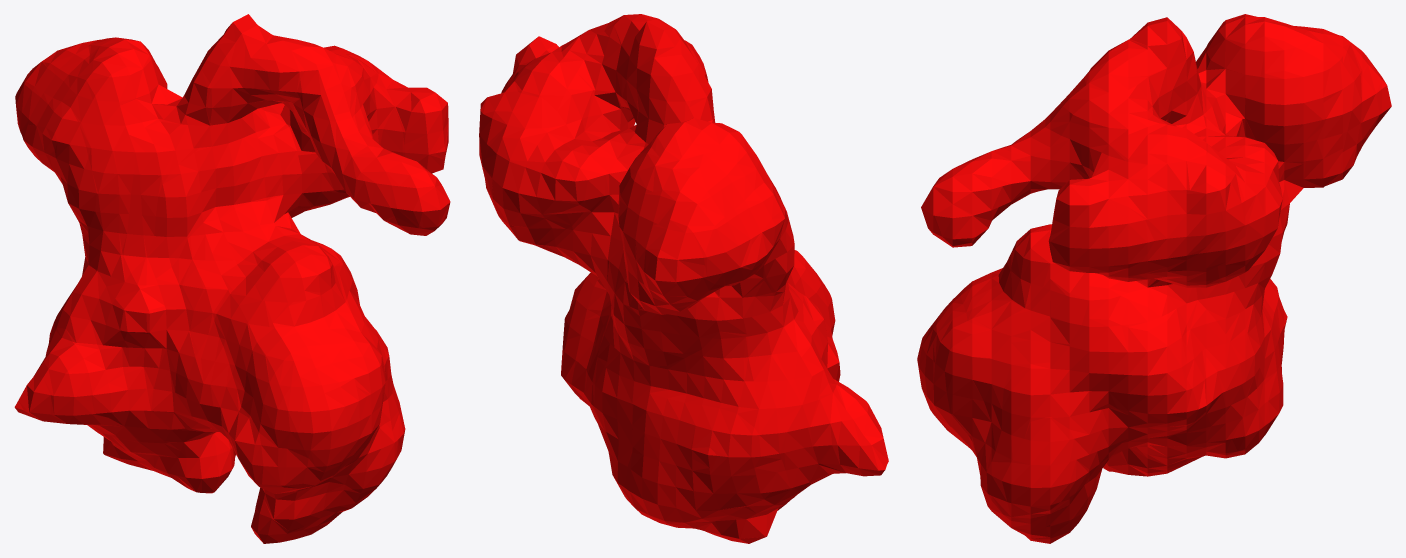
File: cysA_coarse.dae
3 renders of one model, left to right at view 1: azimuth 30°, elevation 25°; view 2: azimuth 150°, elevation 25°; view 3: azimuth 270°, elevation 25°, orthographic. The views are drawn at different scales.
Visible parts, largest first — view 1: cysA; view 2: cysA; view 3: cysA.
Part boxes in pixels (x1,y1,x2,y2): cysA: (14,14,450,543); cysA: (479,14,888,543); cysA: (917,14,1391,543).
Bounding box in the file's own units: 67.07 × 80.18 × 66.13.
